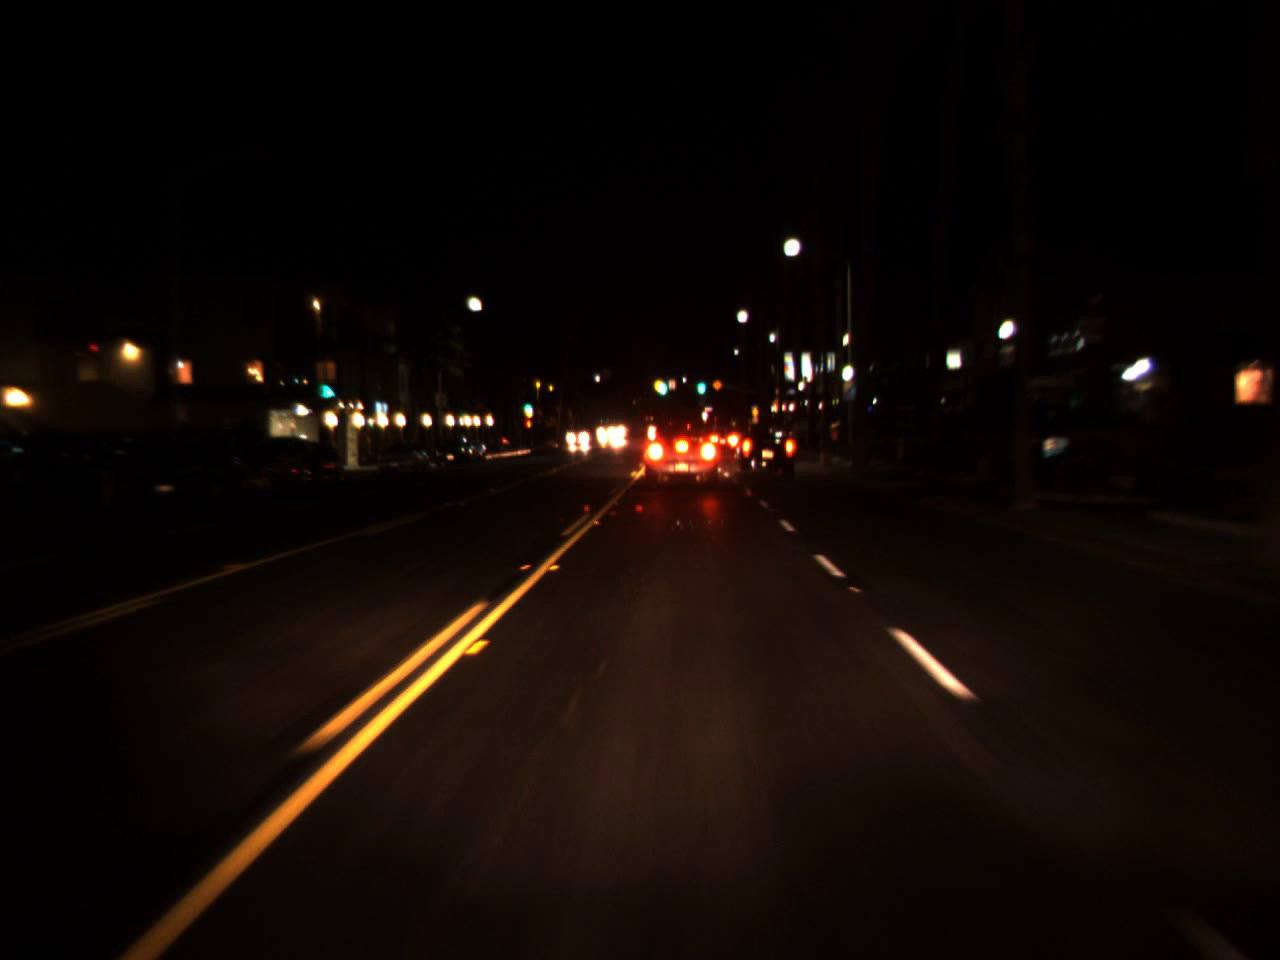go: (657, 370, 667, 400), (694, 370, 703, 397), (520, 398, 534, 410)
